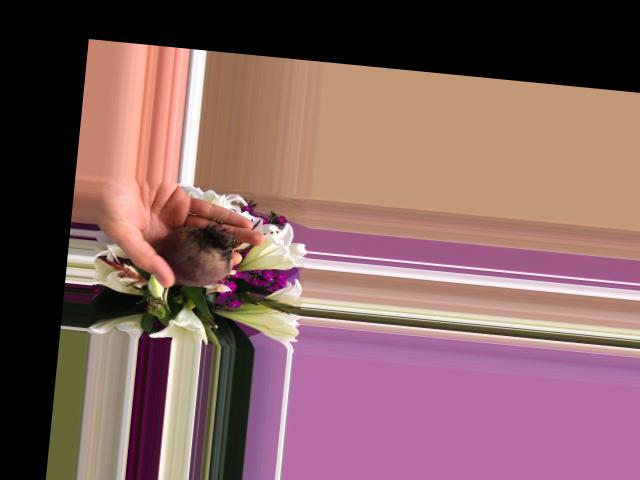beet: (151, 221, 238, 319)
